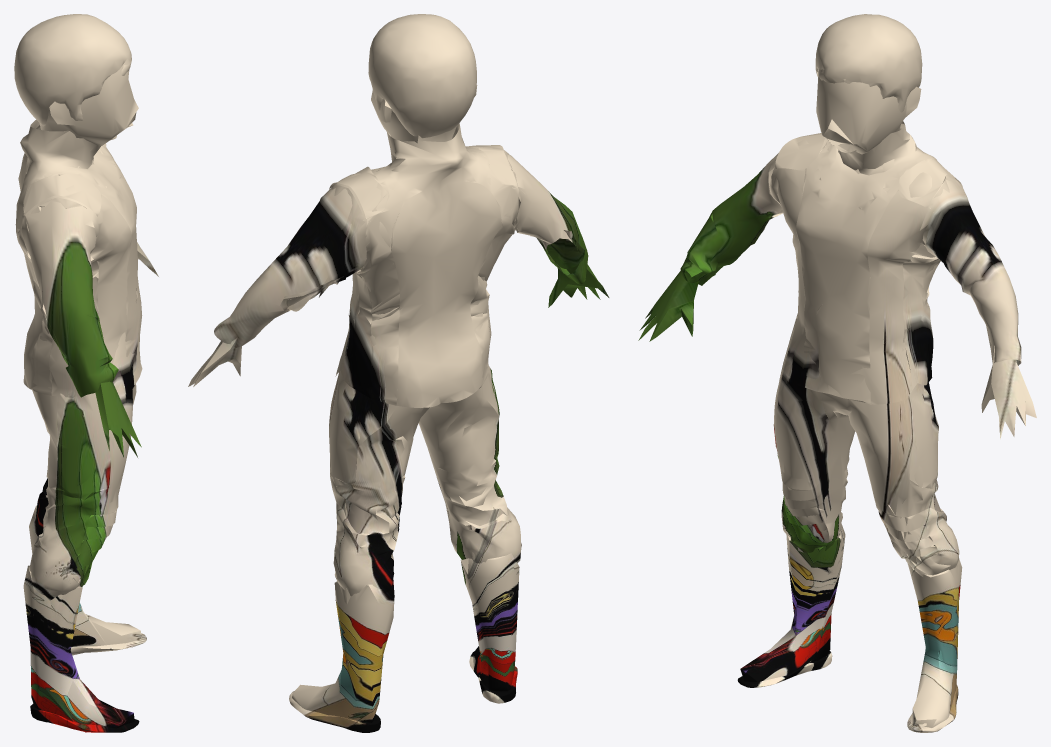
3 renders of one model, left to right at view 1: azimuth 30°, elevation 25°; view 2: azimuth 150°, elevation 25°; view 3: azimuth 270°, elevation 25°, orthographic. The views are drawn at different scales.
Visible parts, largest first — view 1: mmGroup0; view 2: mmGroup0; view 3: mmGroup0.
Boxes of the visible parts, bbox=[...] form: mmGroup0: bbox=[14, 14, 158, 732]; mmGroup0: bbox=[188, 14, 609, 732]; mmGroup0: bbox=[638, 14, 1036, 732].
Bounding box in the file's own units: 75.12 × 198 × 107.
Materials: 1 (1 with a texture image).
